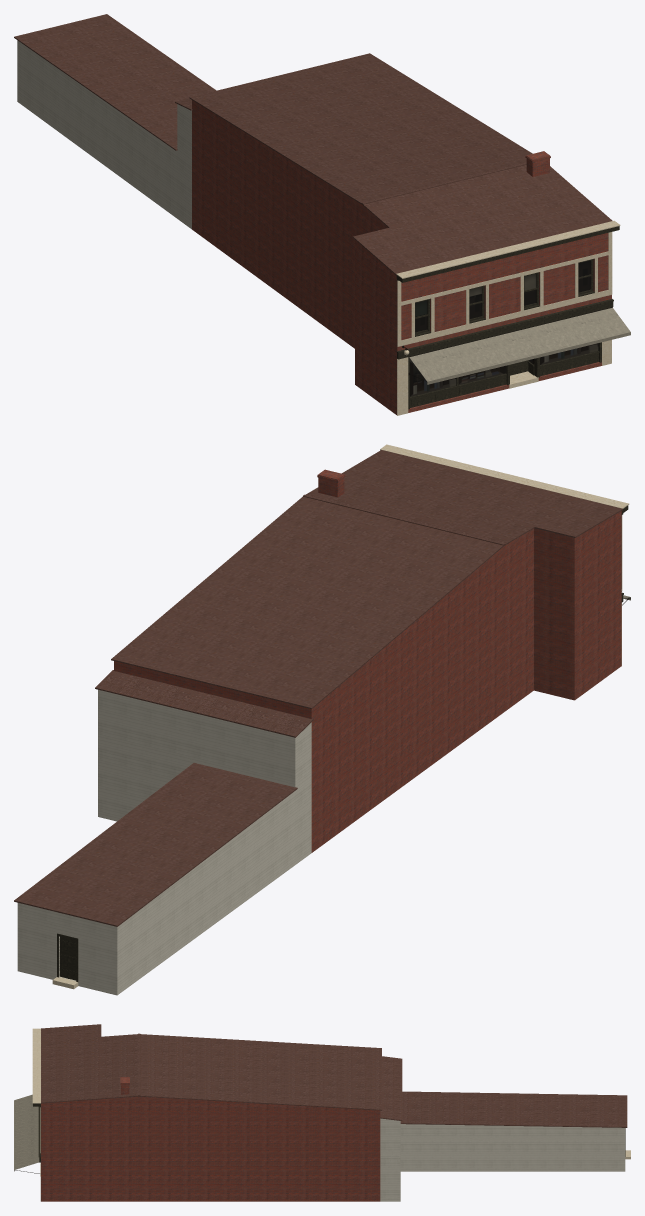
Rendered from store-27.glb.
3 renders of one model, top to bottom at view 1: azimuth 30°, elevation 25°; view 2: azimuth 150°, elevation 25°; view 3: azimuth 270°, elevation 25°, orthographic. The views are drawn at different scales.
Parts seen in each view (by area): view 1: Store27; view 2: Store27; view 3: Store27.
Part boxes in pixels (x1,y1,x2,y2): Store27: (14,14,630,415); Store27: (14,444,630,995); Store27: (14,1024,630,1201).
Size of the model in its own units: 12.59 by 9.2 by 43.91.
Materials: 9 (8 with a texture image).
